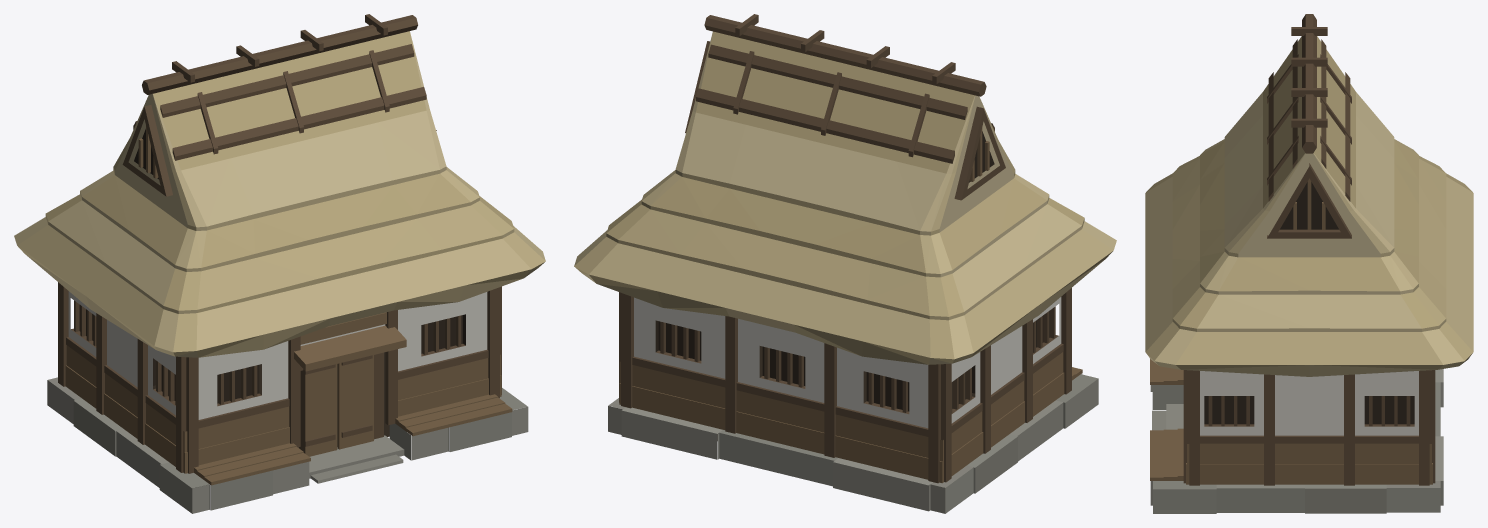
The model's file is farmhouse.glb.
3 renders of one model, left to right at view 1: azimuth 30°, elevation 25°; view 2: azimuth 150°, elevation 25°; view 3: azimuth 270°, elevation 25°, orthographic. The views are drawn at different scales.
Visible parts, largest first — view 1: minka-shell; view 2: minka-shell; view 3: minka-shell.
Boxes of the visible parts, x1,y1,x2,y2 form: minka-shell: (14,14,545,513); minka-shell: (574,14,1116,513); minka-shell: (1145,14,1473,513).
Size of the model in its own units: 8 by 7.27 by 6.
